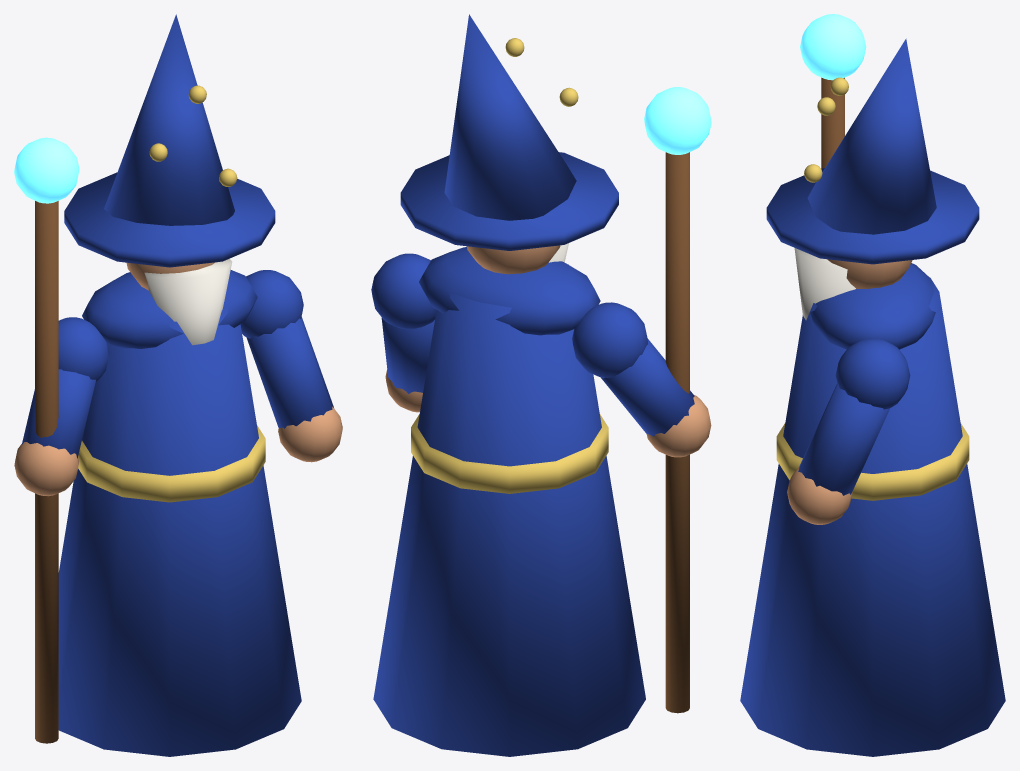
File: wizard.glb
3 renders of one model, left to right at view 1: azimuth 30°, elevation 25°; view 2: azimuth 150°, elevation 25°; view 3: azimuth 270°, elevation 25°, orthographic. The views are drawn at different scales.
Parts seen in each view (by area): view 1: wizard; view 2: wizard; view 3: wizard.
Part boxes in pixels (bbox=[...]): wizard: bbox=[14, 14, 342, 756]; wizard: bbox=[371, 14, 711, 756]; wizard: bbox=[740, 14, 1005, 756].
Size of the model in its own units: 0.5495 by 1.12 by 0.4.
